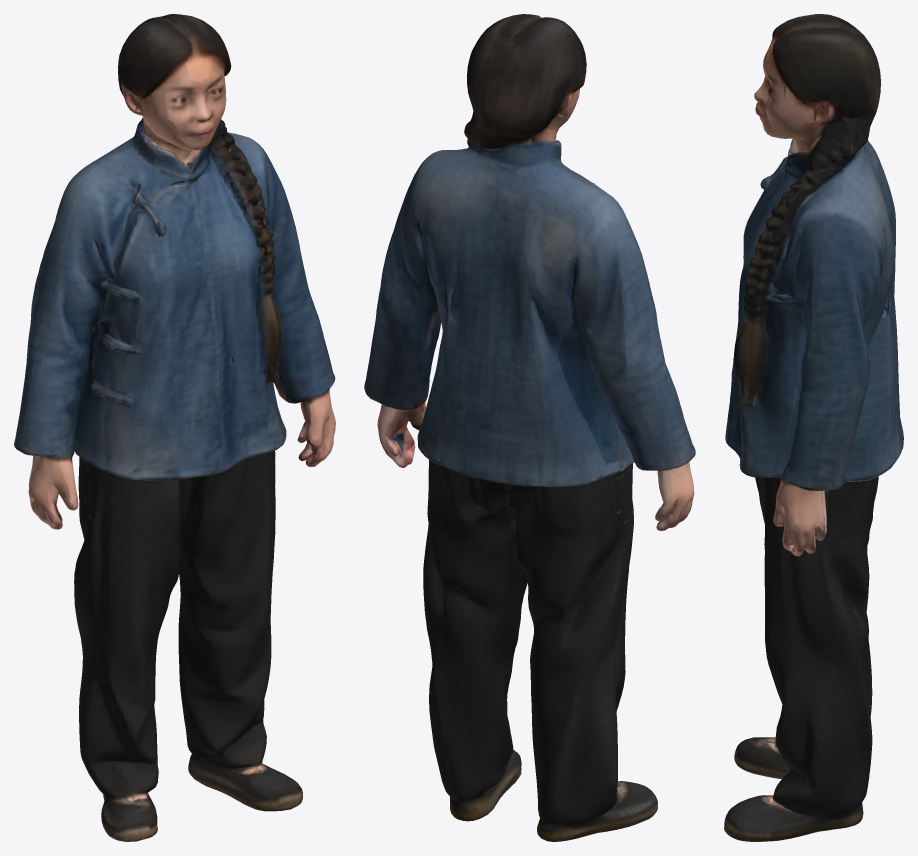
The model's file is villager_young.glb.
The picture shows the model from 3 angles, left to right: view 1: azimuth 30°, elevation 25°; view 2: azimuth 150°, elevation 25°; view 3: azimuth 270°, elevation 25°; orthographic projection. The views are drawn at different scales.
Parts seen in each view (by area): view 1: geometry_0; view 2: geometry_0; view 3: geometry_0.
Boxes of the visible parts, <box> form: geometry_0: <box>14,14,335,841</box>; geometry_0: <box>364,14,695,841</box>; geometry_0: <box>724,14,903,841</box>.
Bounding box in the file's own units: 0.6988 × 1.65 × 0.3461.
1 material, 1 textured.
